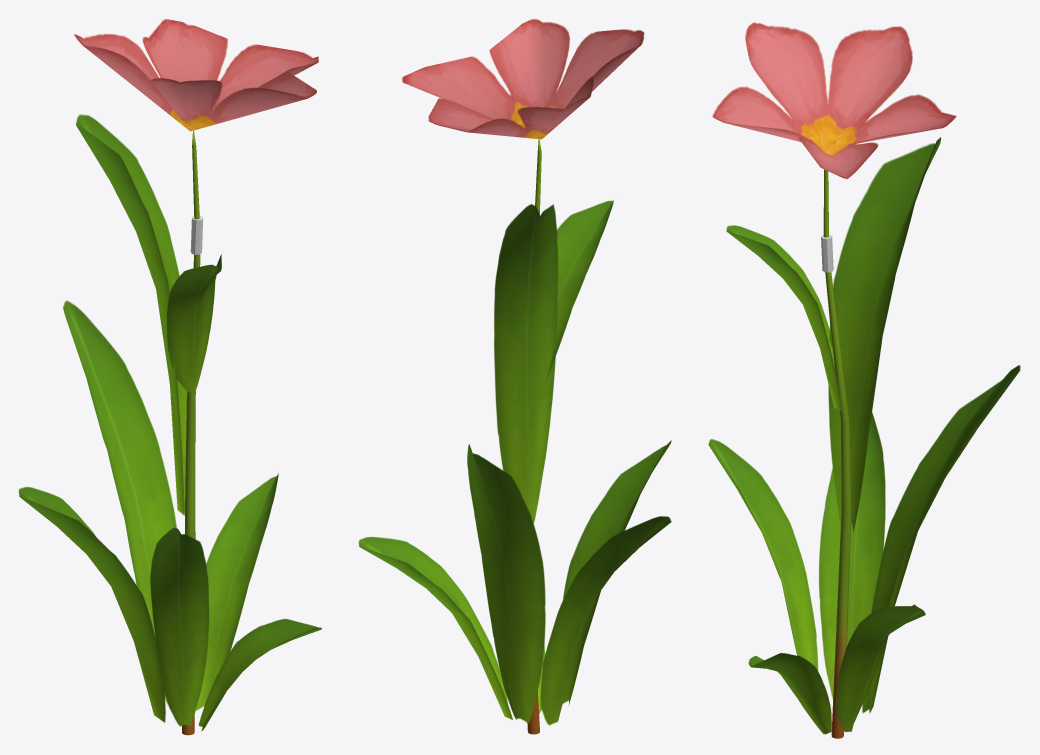
The model's file is FlowerTape.gltf.
The picture shows the model from 3 angles, left to right: view 1: azimuth 30°, elevation 25°; view 2: azimuth 150°, elevation 25°; view 3: azimuth 270°, elevation 25°; orthographic projection. The views are drawn at different scales.
Visible parts, largest first — view 1: Flower_3_Single; view 2: Flower_3_Single; view 3: Flower_3_Single.
Part boxes in pixels (box(x1,y1,x2,y2)): Flower_3_Single: box(18, 19, 321, 735); Flower_3_Single: box(358, 19, 671, 734); Flower_3_Single: box(708, 22, 1020, 738).
Bounding box in the file's own units: 0.9066 × 2.07 × 0.8775.
3 materials, 2 textured.
